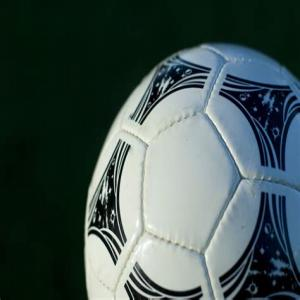Football: (83, 40, 300, 300)
